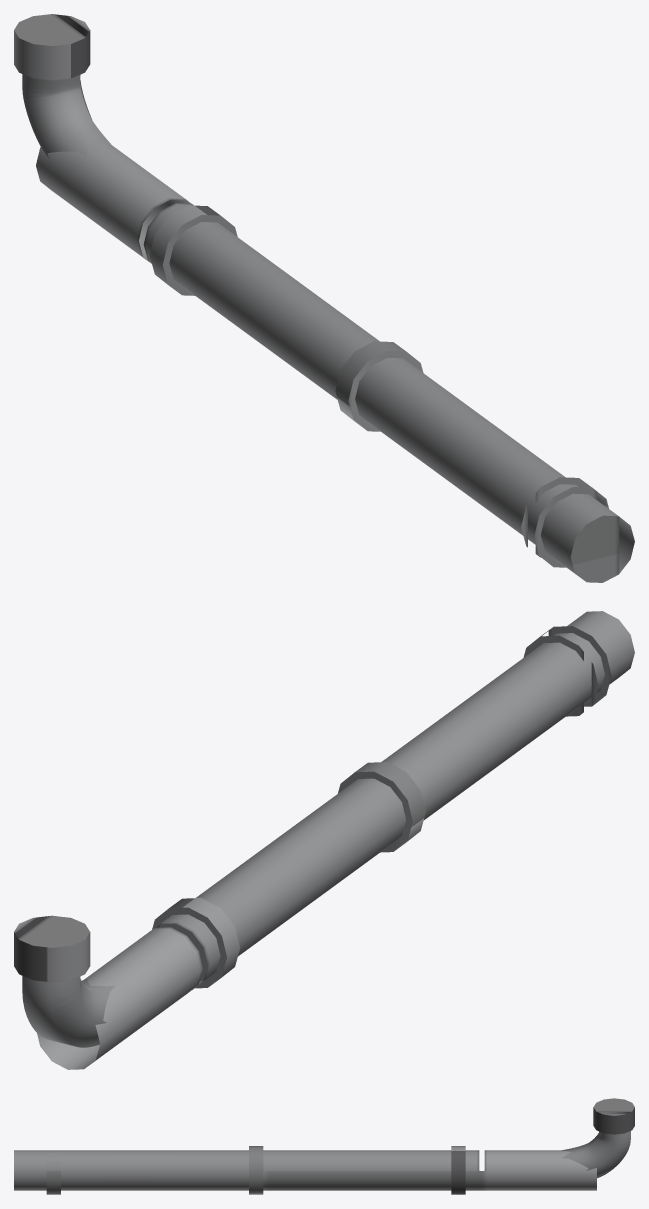
3 views of the same model, one above another, from view 1: azimuth 30°, elevation 25°; view 2: azimuth 150°, elevation 25°; view 3: azimuth 270°, elevation 25° (orthographic). The views are drawn at different scales.
Size of the model in its own units: 0.188 by 0.363 by 2.39.
